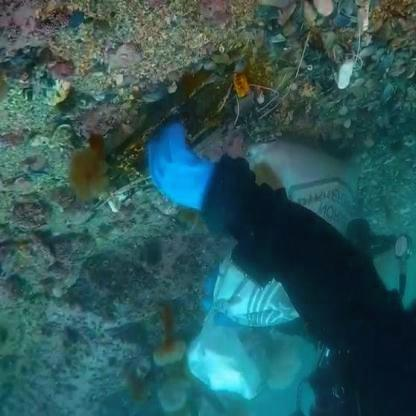electronics: (102, 96, 220, 152)
plastic: (186, 258, 288, 388)
